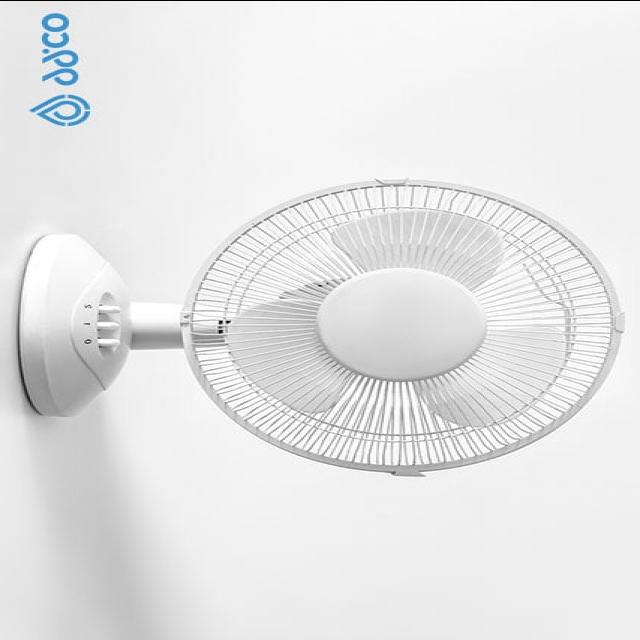fan: (12, 172, 624, 480)
